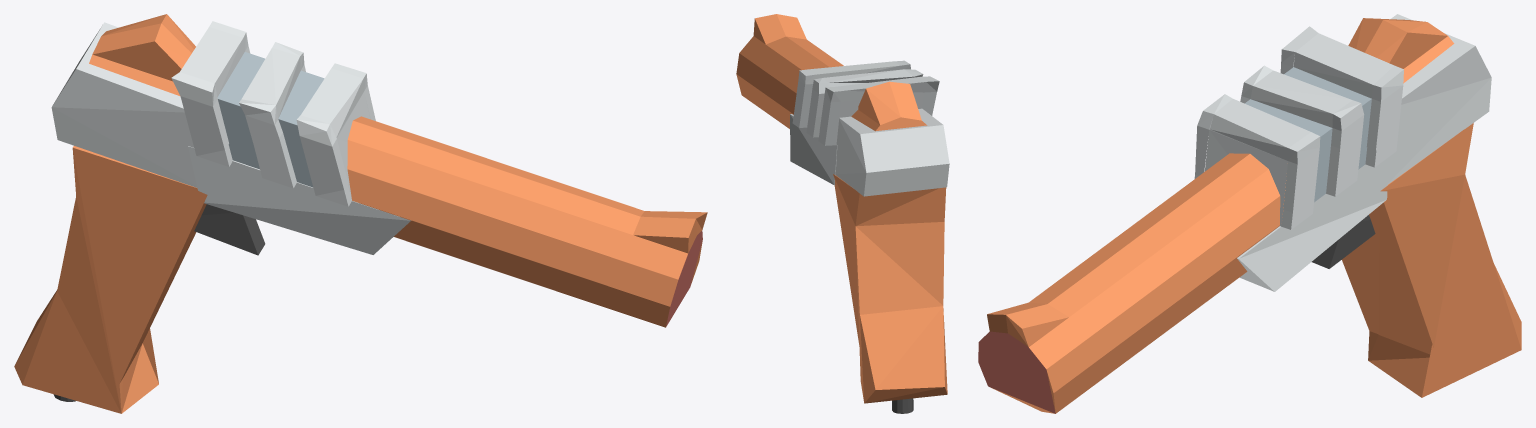
Rendered from nintendo-blaster-6mgzhAFknsj.glb.
3 views of the same model, side by side, from view 1: azimuth 30°, elevation 25°; view 2: azimuth 150°, elevation 25°; view 3: azimuth 270°, elevation 25° (orthographic). The views are drawn at different scales.
Visible parts, largest first — view 1: group1710519388; view 2: group1710519388; view 3: group1710519388.
Boxes of the visible parts, x1=… form: group1710519388: x1=14, y1=14, x2=707, y2=413; group1710519388: x1=736, y1=14, x2=949, y2=413; group1710519388: x1=978, y1=14, x2=1521, y2=413.
Size of the model in its own units: 0.1708 by 0.1323 by 0.1727.
